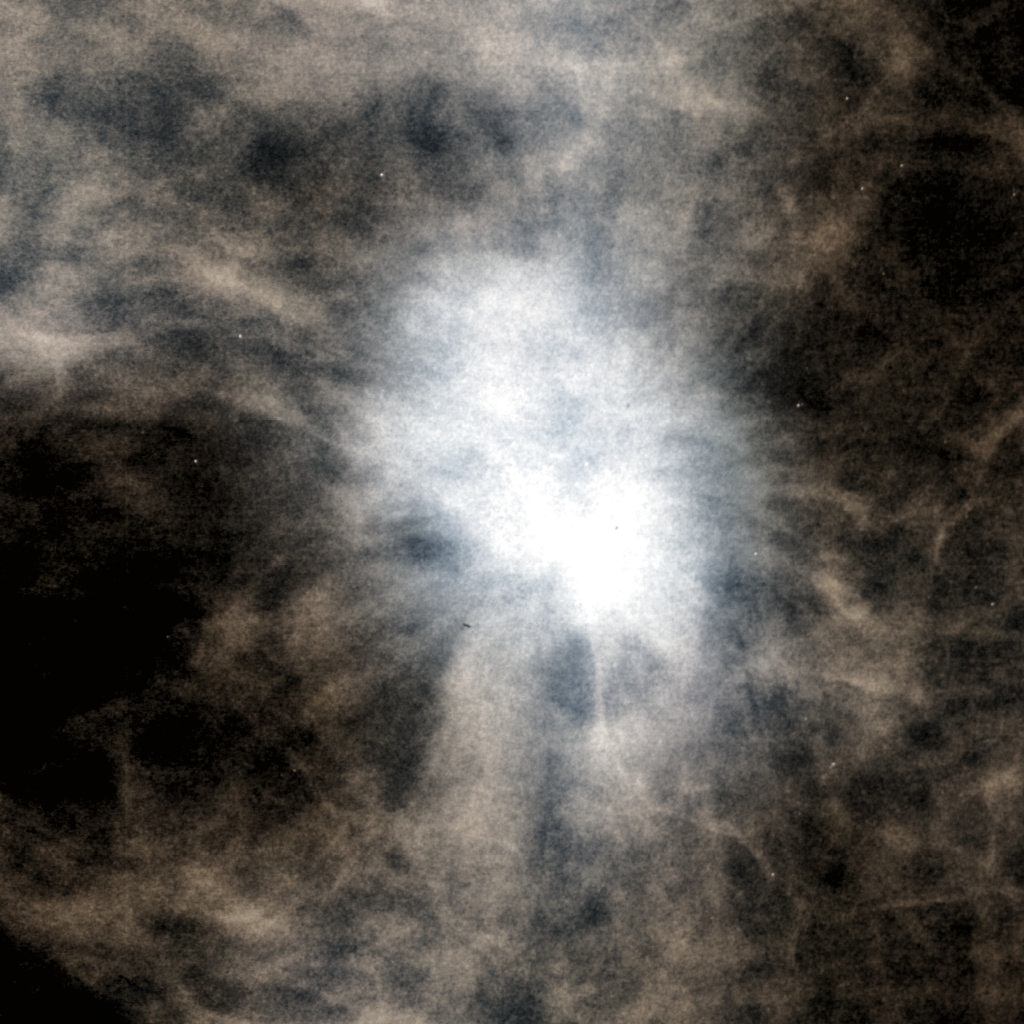tumor: (313, 309, 711, 715)
